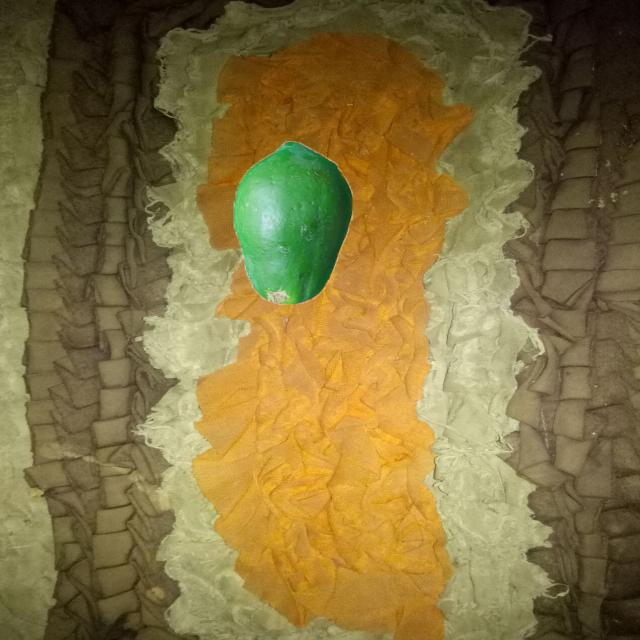Pepaya unrippen: (230, 138, 348, 310)
